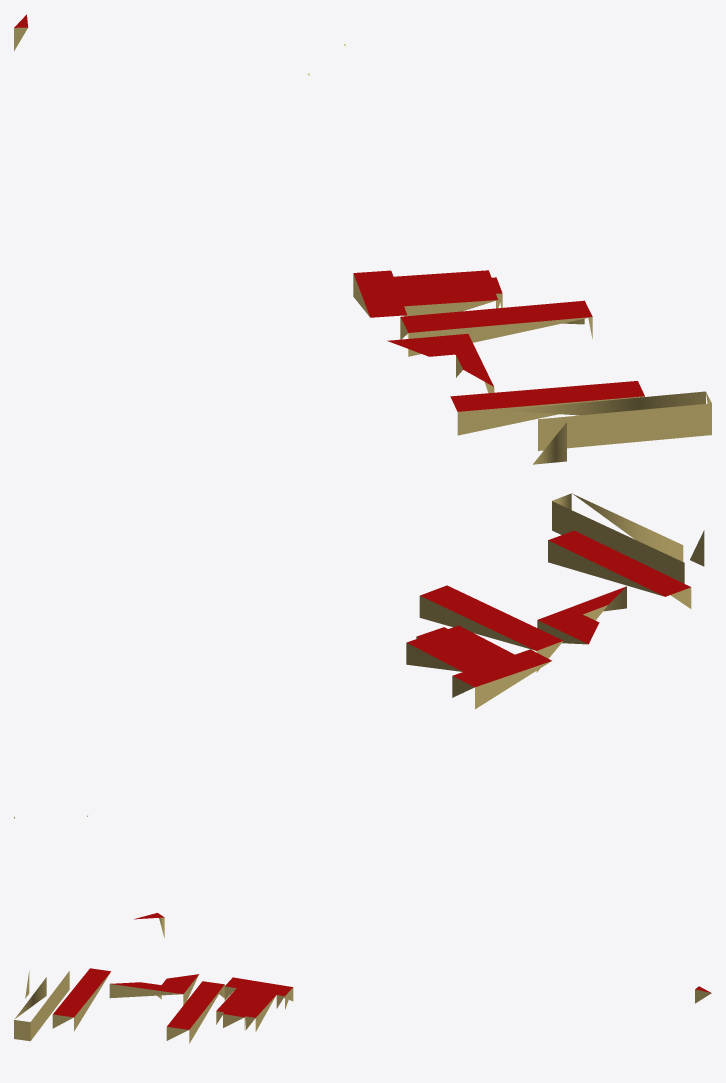
The picture shows the model from 3 angles, top to bottom: view 1: azimuth 30°, elevation 25°; view 2: azimuth 150°, elevation 25°; view 3: azimuth 270°, elevation 25°; orthographic projection. The views are drawn at different scales.
Bounding box in the file's own units: 101 × 12.5 × 330.
